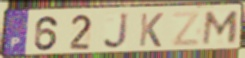2: (69, 13, 94, 51)
6: (33, 15, 59, 52)
J: (102, 12, 130, 51)
K: (137, 12, 165, 49)
M: (201, 10, 242, 47)
Z: (170, 10, 203, 48)
